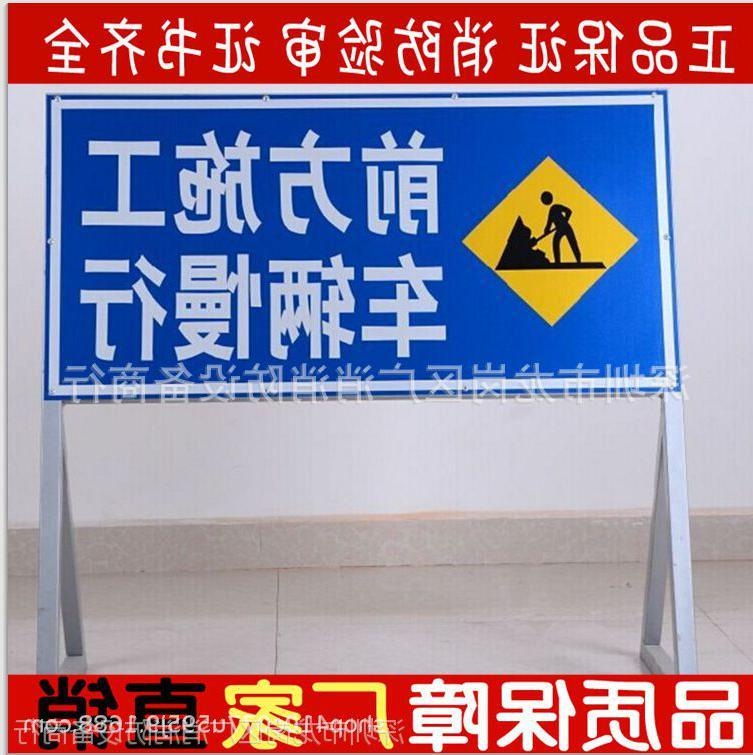sign: (48, 85, 673, 390)
